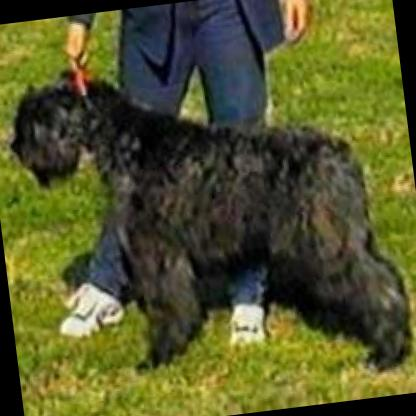Bouvier_des_Flandres: (0, 25, 413, 410)
